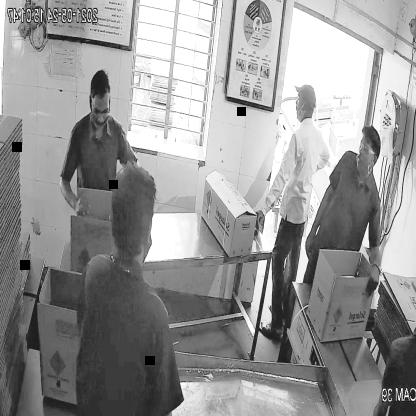goggles: (88, 97, 114, 123), (356, 139, 384, 159)
